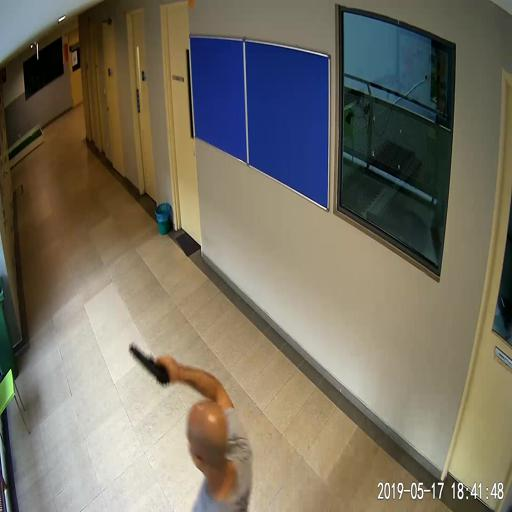pistol: (129, 340, 173, 385)
